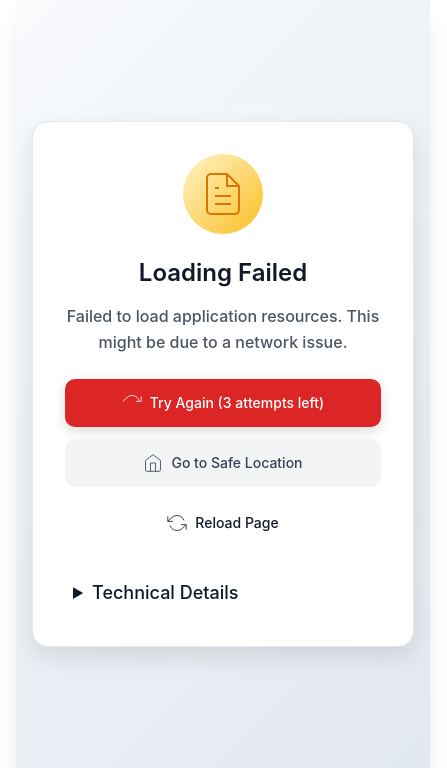
Test case: LoadingErrorBoundary › Error Recovery › implements exponential backoff for retries
This screenshot has width=447, height=768.
Click the button "Try Again (3 attempts left)" at (223,403), box [65,379,381,427]
Wait 1000 ms
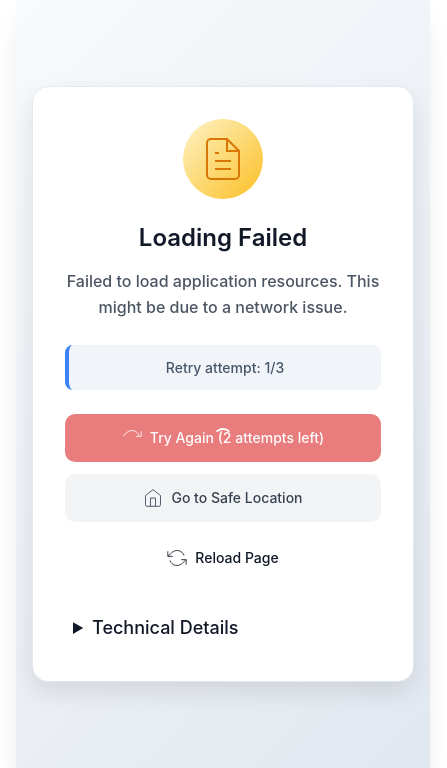
Check: the heading "Loading Failed" is shown, box [139,223,307,252]
Check: the button "Try Again (2 attempts left)" is shown, box [65,414,381,462]
